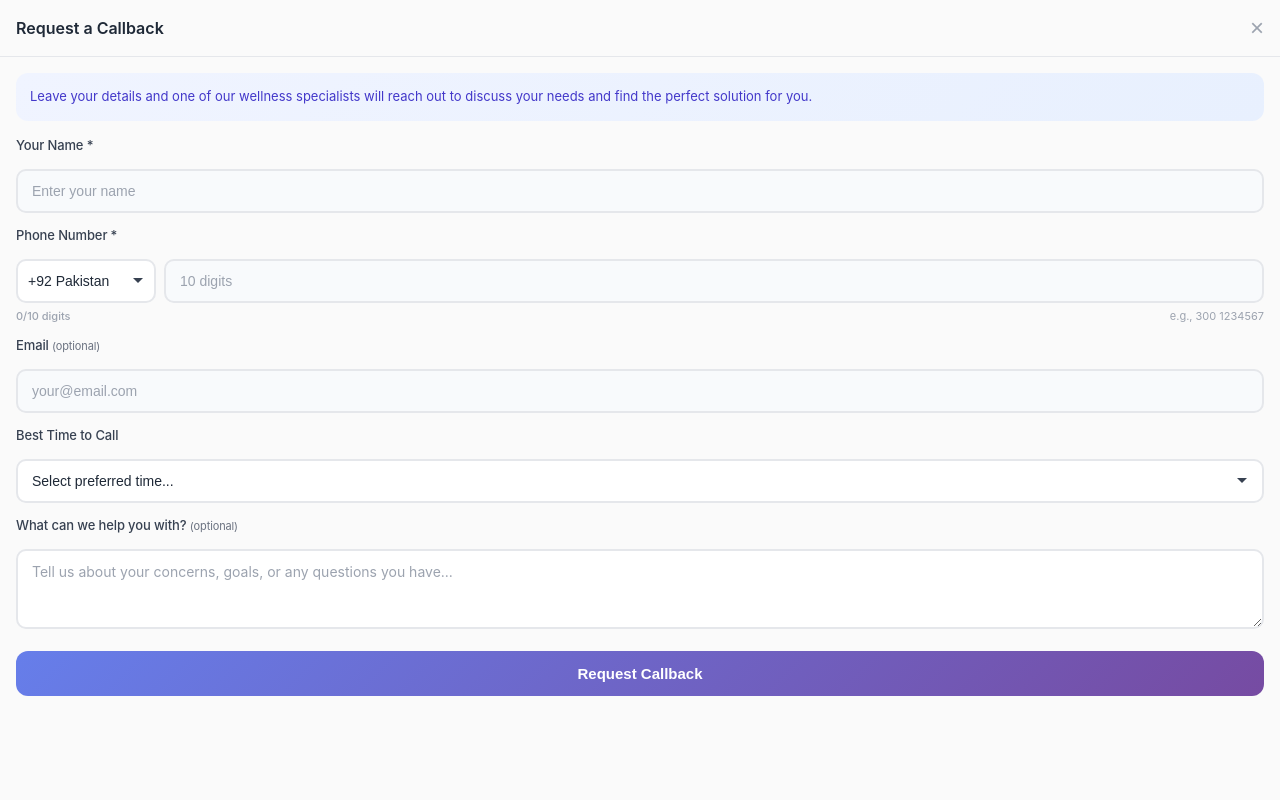
Test: CallbackForm Validation › should clear errors on input change
The image size is (1280, 800).
Click the field with placeholder "Enter your name". click: (640, 190)
box: [16, 168, 1264, 212]
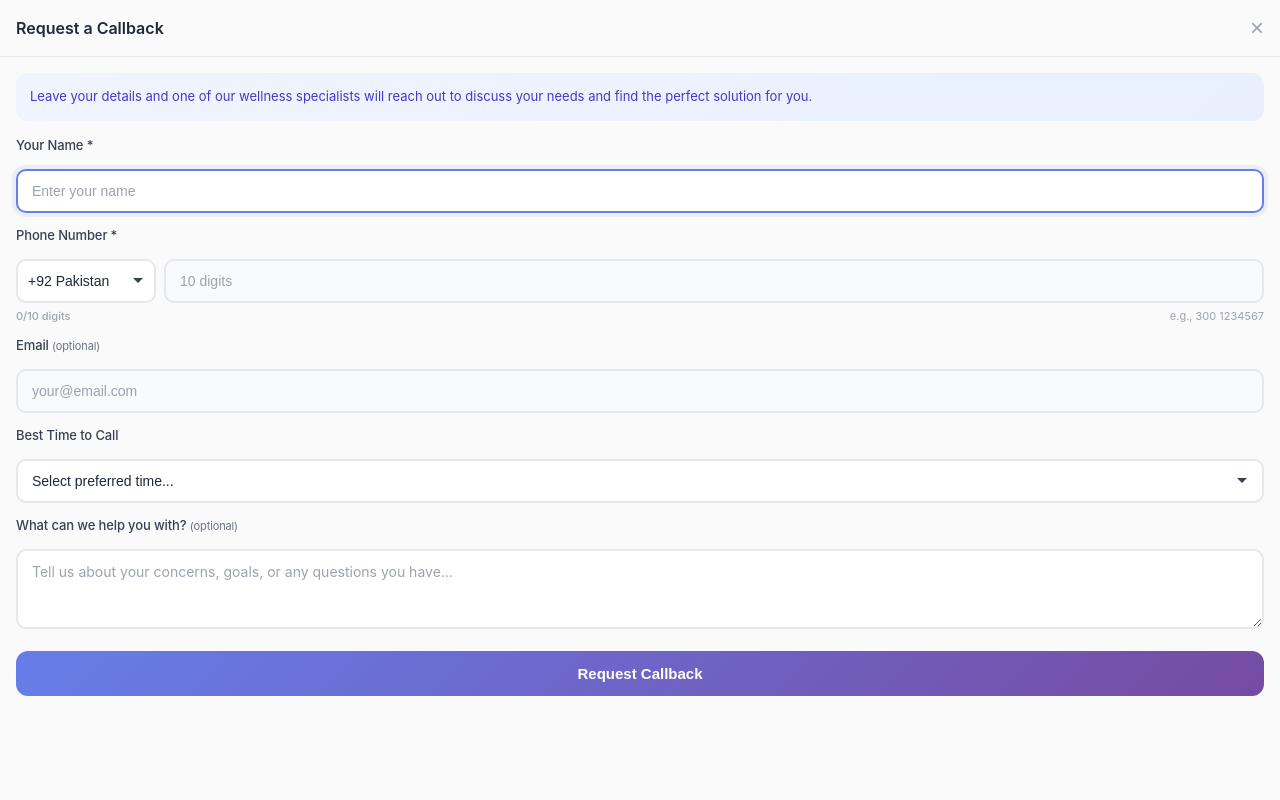
Press Tab
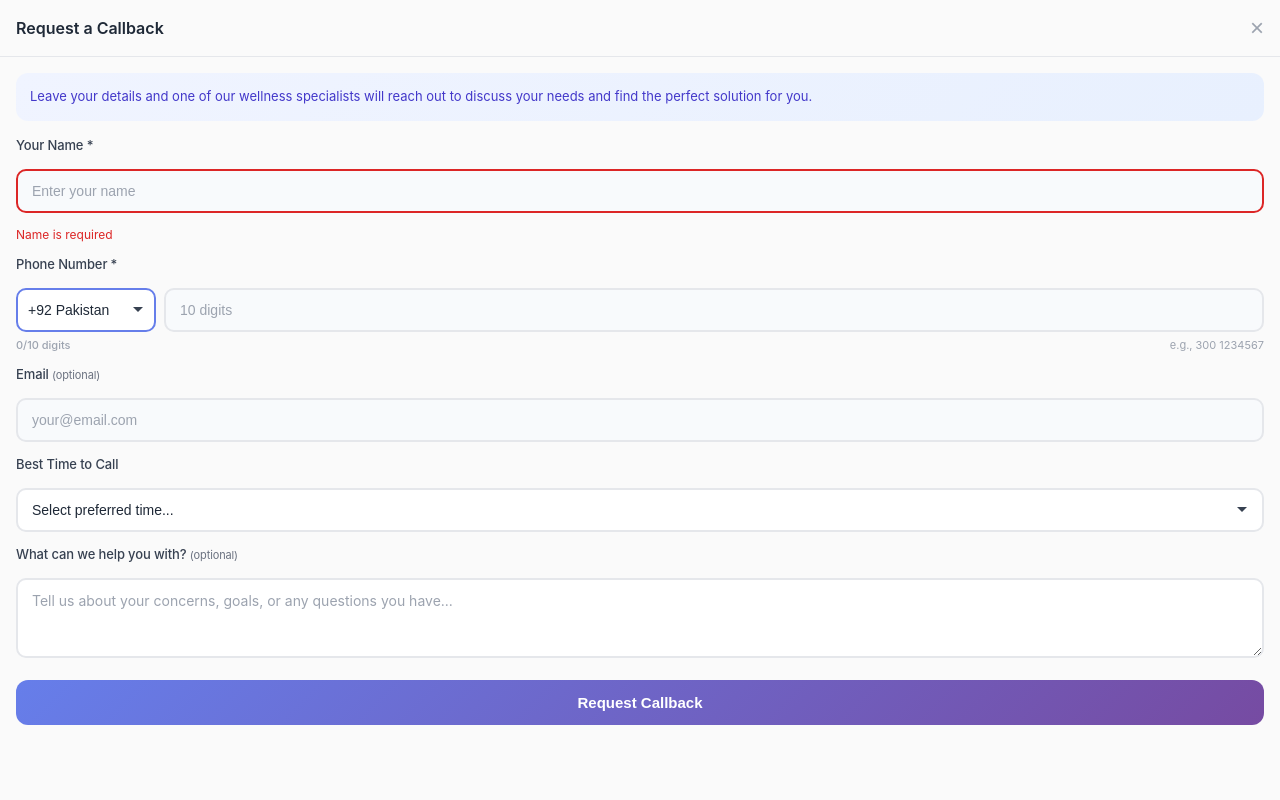
Result: the text "Name is required" is shown at [16, 226, 113, 242]
Type "John" into the field with placeholder "Enter your name". click: (640, 190)
box: [16, 168, 1264, 212]
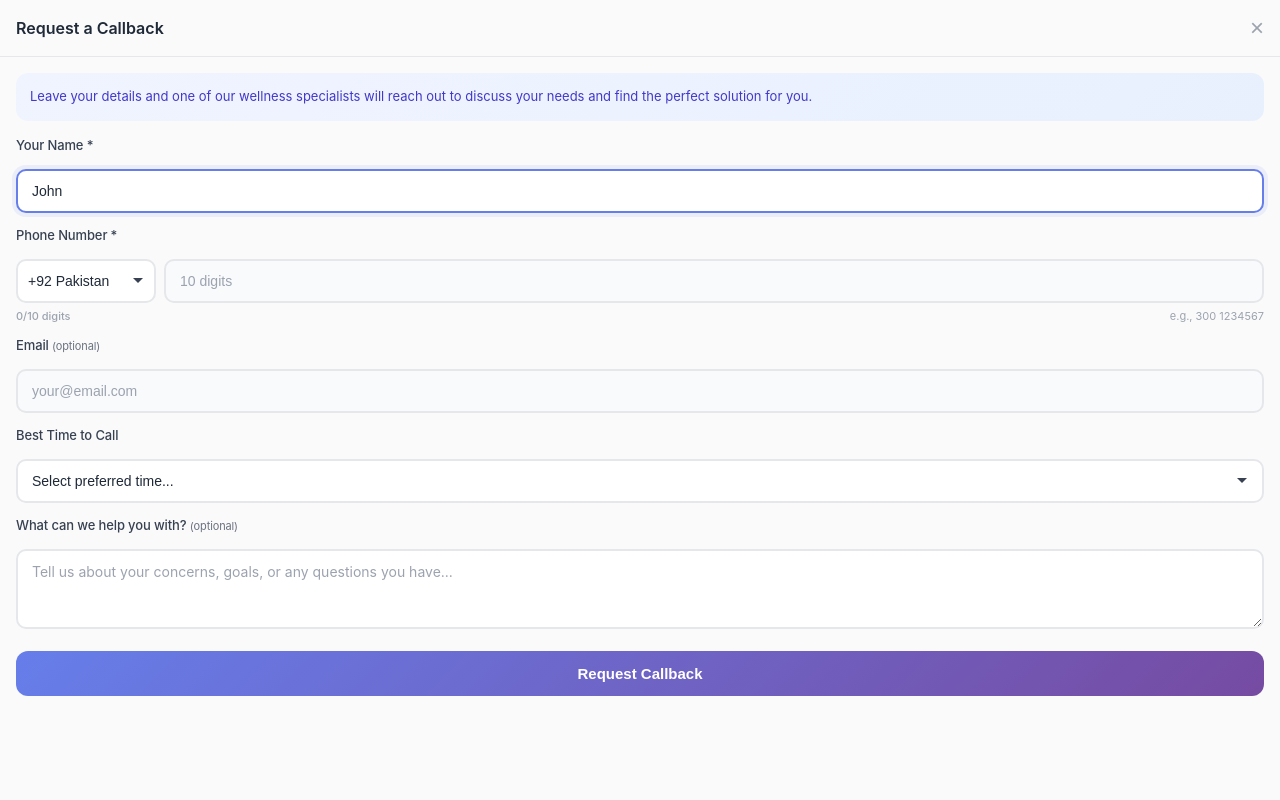
Result: the text "Name is required" is gone
